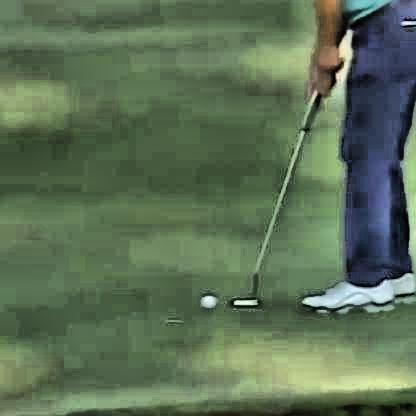golfball: (199, 291, 215, 307)
